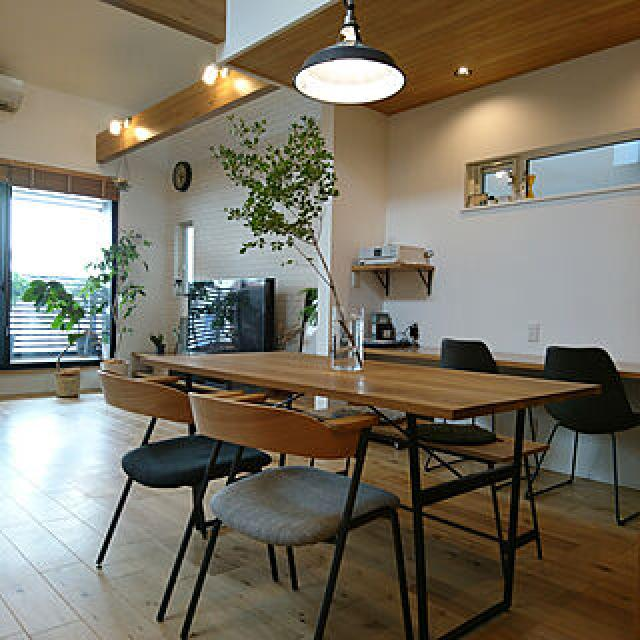vintage chair: (187, 391, 416, 634), (95, 367, 279, 588)
vintage desk: (135, 346, 597, 632)
